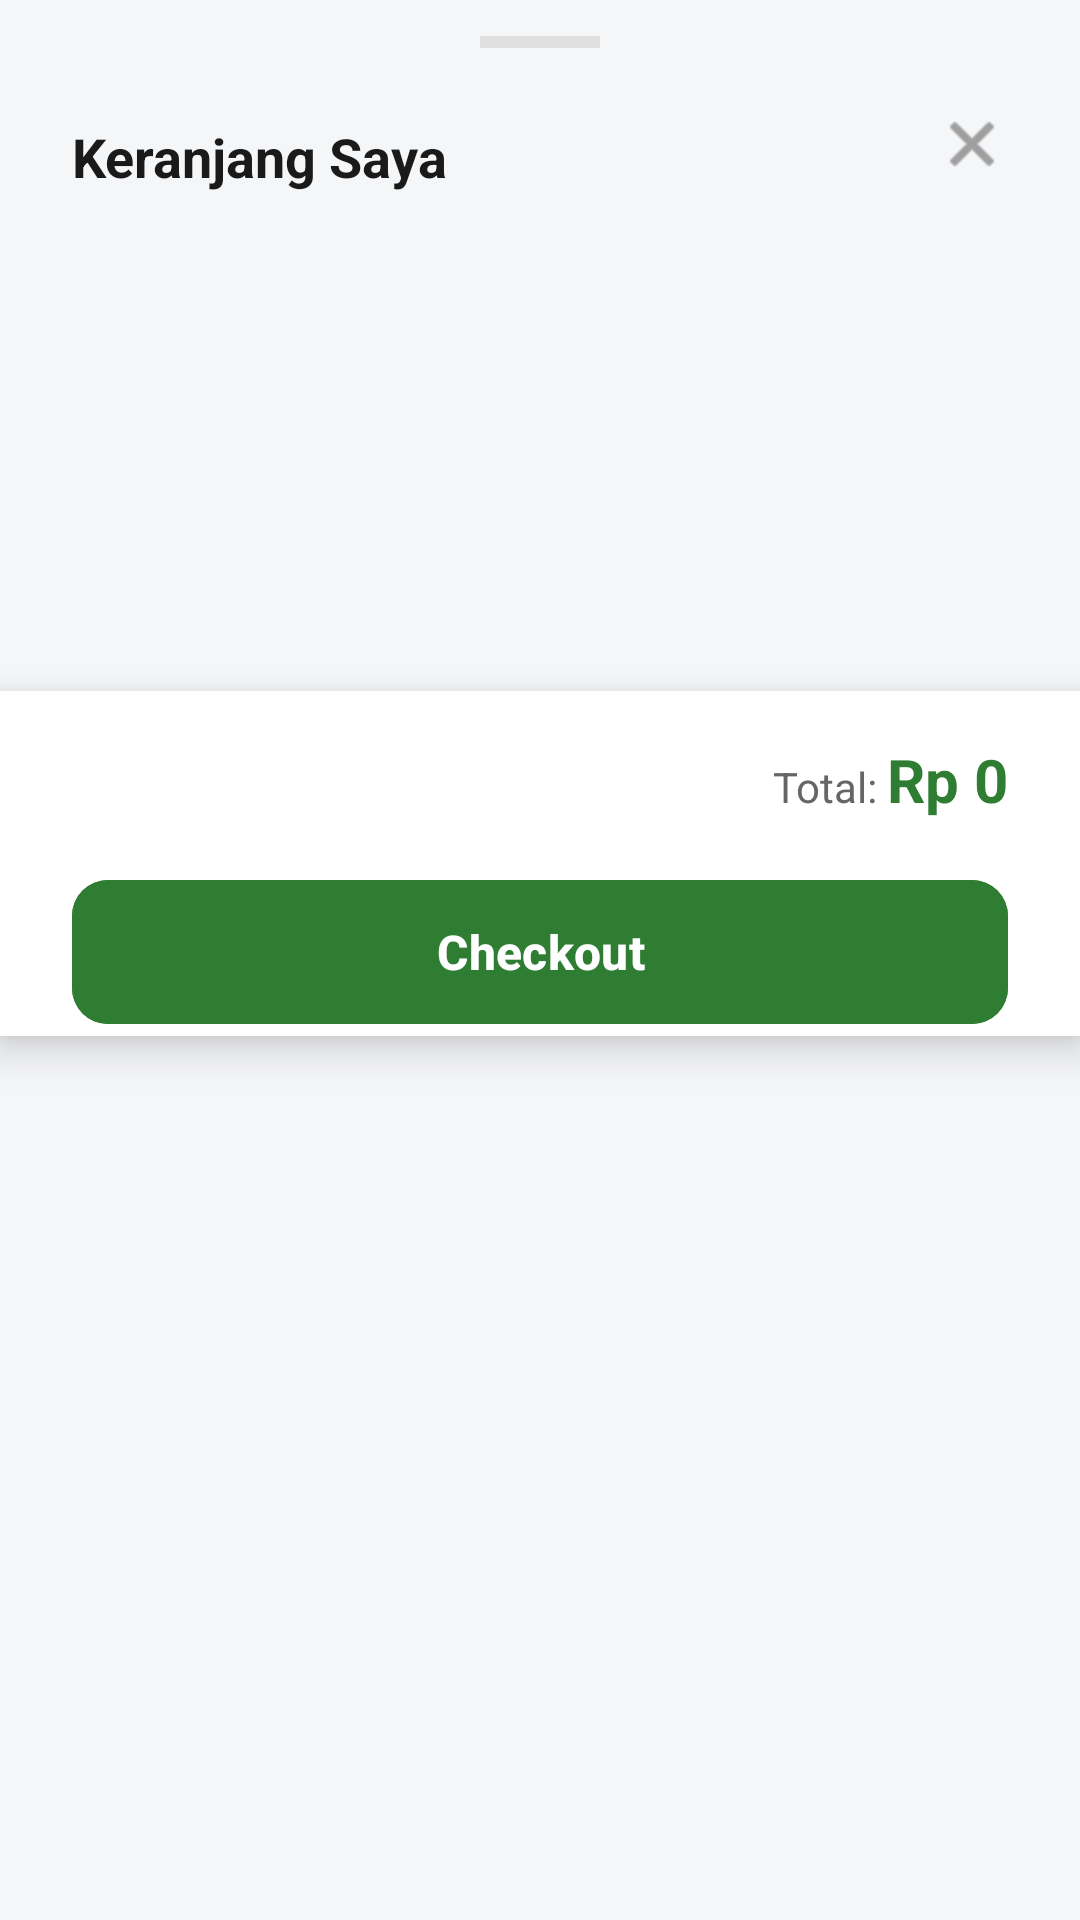

Icons on this 1080x1920 Android screen, each with the point to tap as point (x, y):
close clear cancel: point (972, 144)
